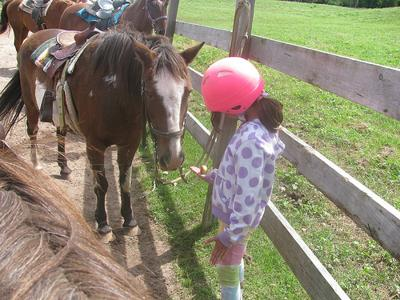person: (189, 55, 285, 300)
